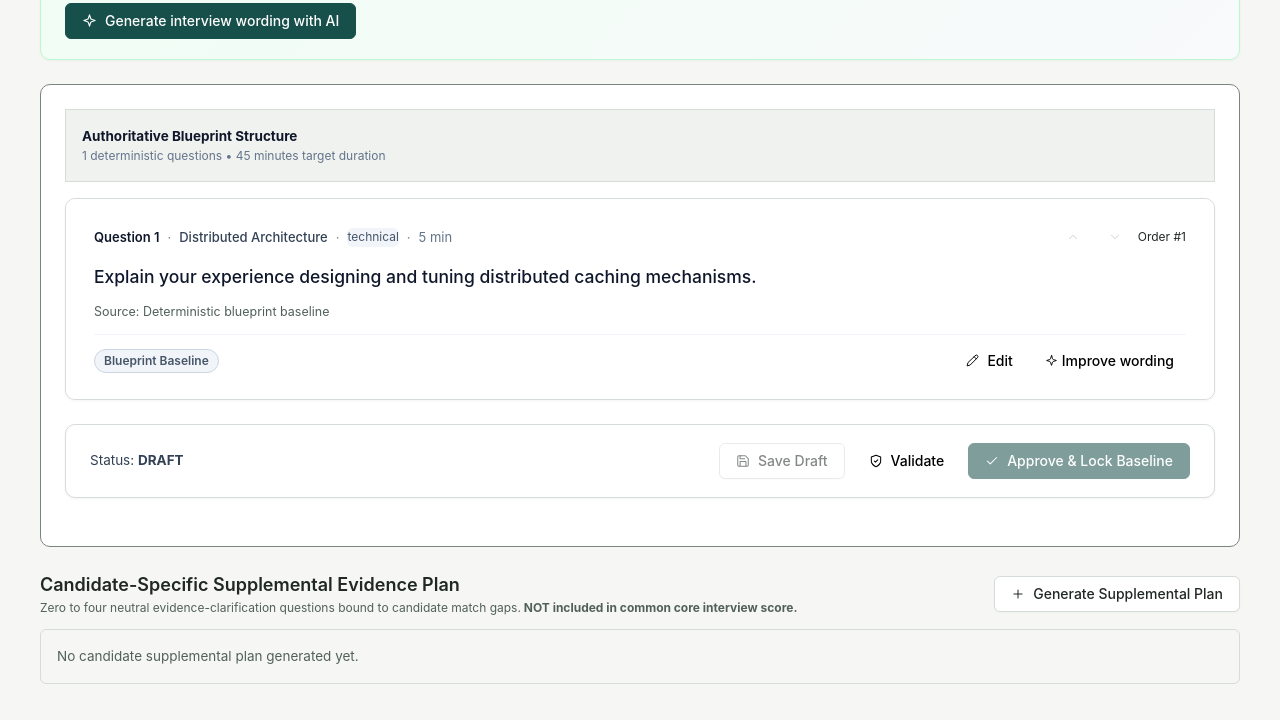
Phase 3C.4 Recruiter Wording Assistance & Comparison Modal Tests › renders Improve Wording button for eligible drafts and handles comparison modal interactions
(page scrolled)
Expected: the text "Explain your experience designing and tuning distributed caching mechanisms." is shown, [94,266,756,287]
Expected: the text "Source: Deterministic blueprint baseline" is shown, [94,302,330,322]
Step 1. Click the button with aria-label "improve wording for question 1" → coordinates (1109, 361), box [1033,345,1186,377]
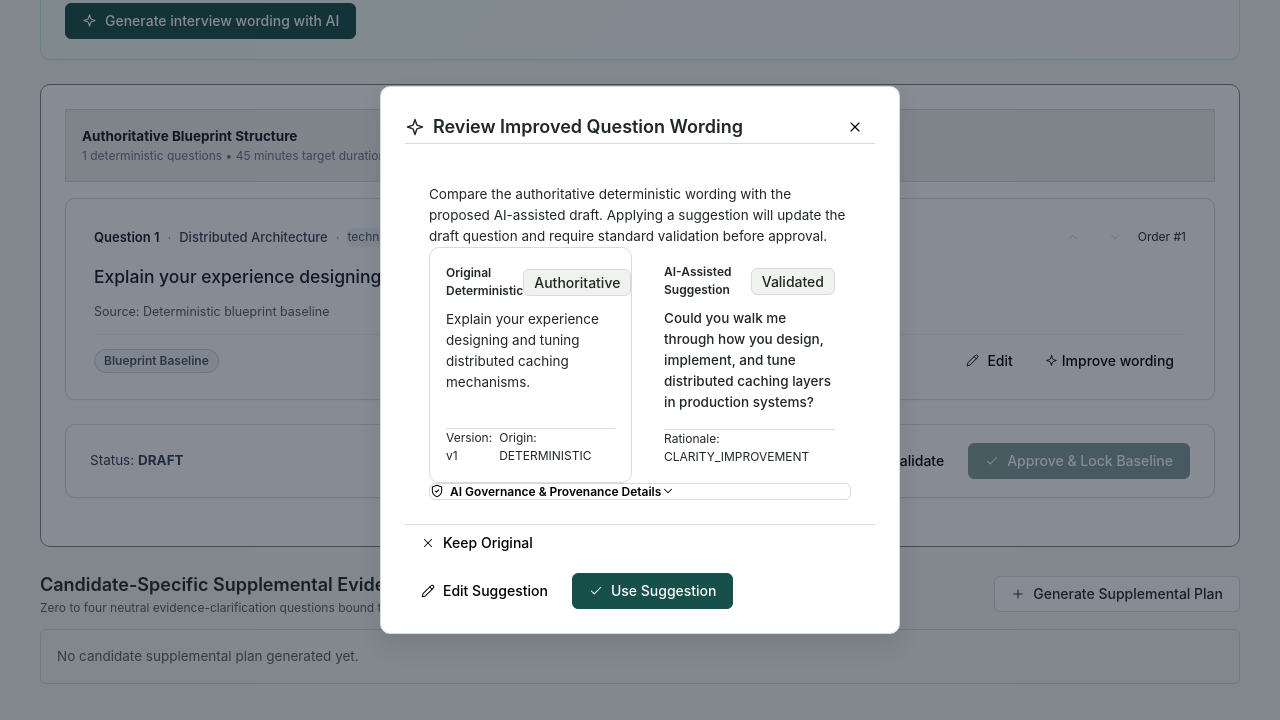
Expected: the heading "Review Improved Question Wording" is shown, [433,113,743,141]
Expected: the text "Original Deterministic" is shown, [446,264,523,301]
Expected: the text "AI-Assisted Suggestion" is shown, [664,264,732,298]
Note: Click "Use Suggestion"
Step 2. Click the button "Use Suggestion" → coordinates (653, 591), box [572,573,734,609]
(page scrolled)
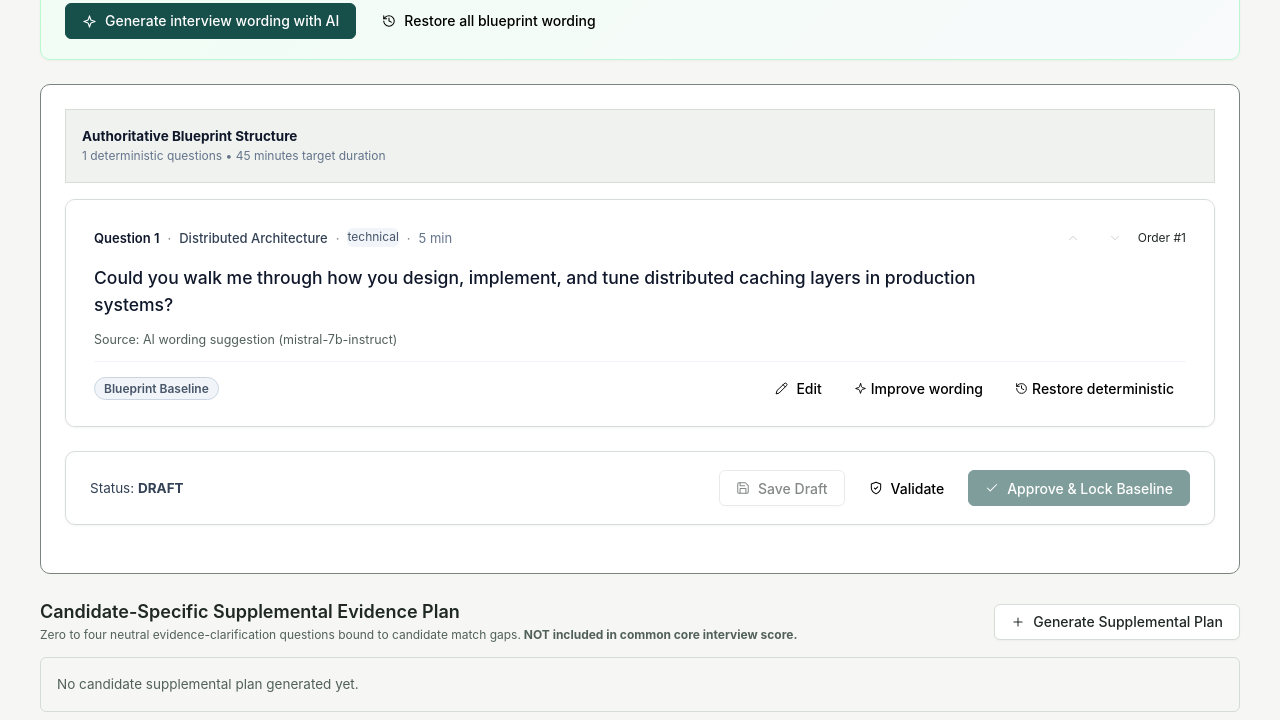
Expected: the heading "Review Improved Question Wording" is gone
Expected: the text "Source: AI wording suggestion (mistral-7b-instruct)" is shown, [94,330,397,349]
Expected: the button with aria-label "restore original deterministic baseline wording" is shown, [1003,372,1186,404]
